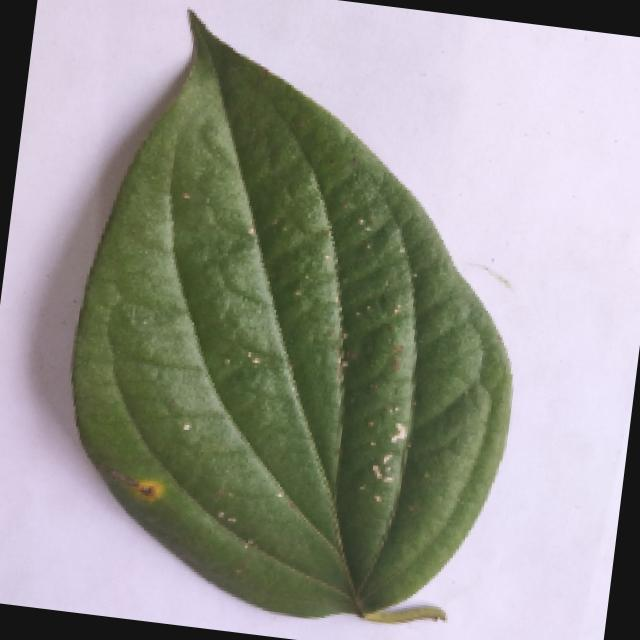pollu-disease: (15, 0, 572, 627)
